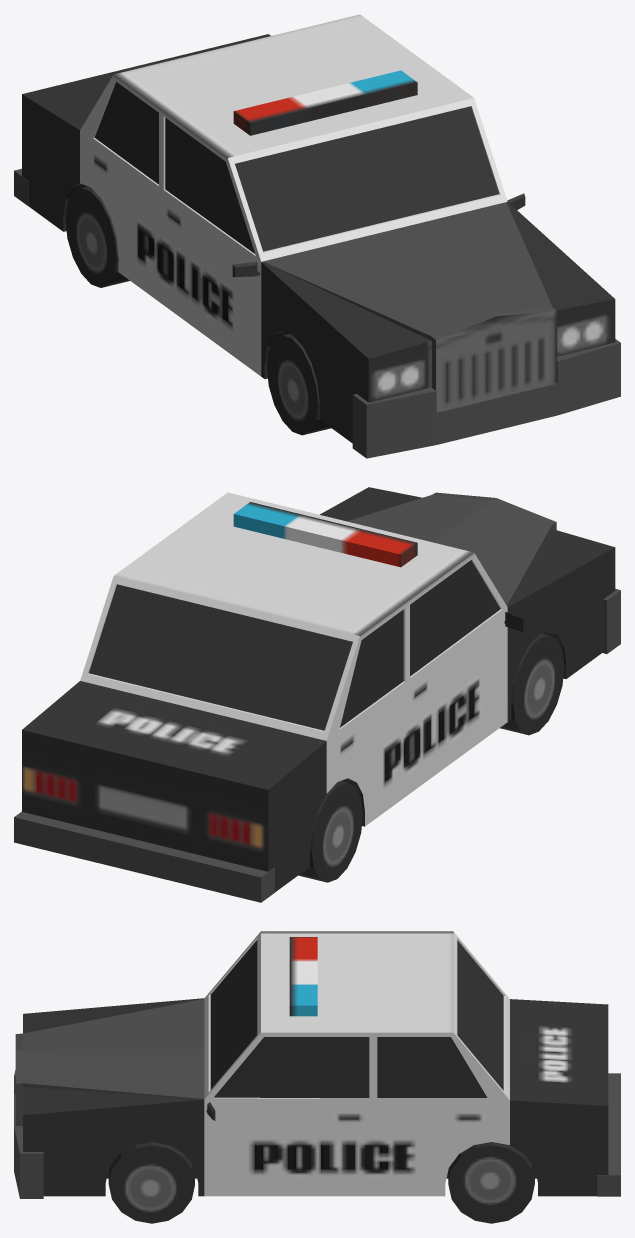
File: Vehicle_Police Car.fbx
The picture shows the model from 3 angles, top to bottom: view 1: azimuth 30°, elevation 25°; view 2: azimuth 150°, elevation 25°; view 3: azimuth 270°, elevation 25°; orthographic projection. The views are drawn at different scales.
Parts seen in each view (by area): view 1: Vehicle_Police Car; view 2: Vehicle_Police Car; view 3: Vehicle_Police Car.
Part boxes in pixels (left/top/right/bottom): Vehicle_Police Car: left=14, top=14, right=620, bottom=458; Vehicle_Police Car: left=14, top=487, right=620, bottom=902; Vehicle_Police Car: left=14, top=931, right=620, bottom=1223.
Size of the model in its own units: 296 by 232 by 632.
